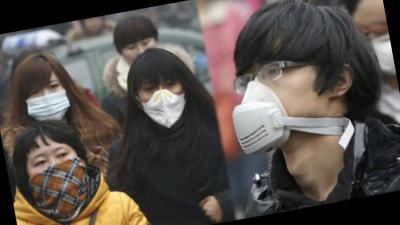with_mask: (221, 38, 352, 165), (22, 140, 99, 222), (133, 72, 193, 135), (22, 75, 73, 125), (361, 15, 397, 85)
without_mask: (119, 35, 163, 69)
